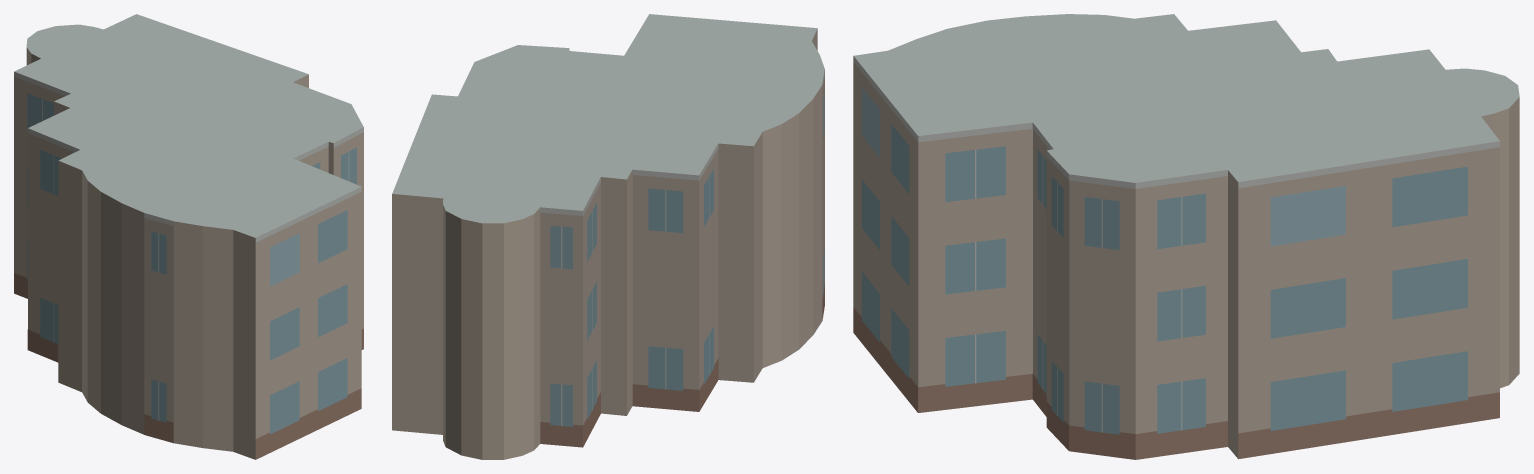
File: survey-upis-32596489.glb
3 views of the same model, side by side, from view 1: azimuth 30°, elevation 25°; view 2: azimuth 150°, elevation 25°; view 3: azimuth 270°, elevation 25° (orthographic). The views are drawn at different scales.
Parts seen in each view (by area): view 1: survey-upis-32596489.tmp; view 2: survey-upis-32596489.tmp; view 3: survey-upis-32596489.tmp.
Boxes of the visible parts, left/top/right/bottom form: survey-upis-32596489.tmp: left=14, top=14, right=363, bottom=459; survey-upis-32596489.tmp: left=392, top=14, right=824, bottom=459; survey-upis-32596489.tmp: left=853, top=14, right=1519, bottom=459.
Bounding box in the file's own units: 14.54 × 11.1 × 24.21.
